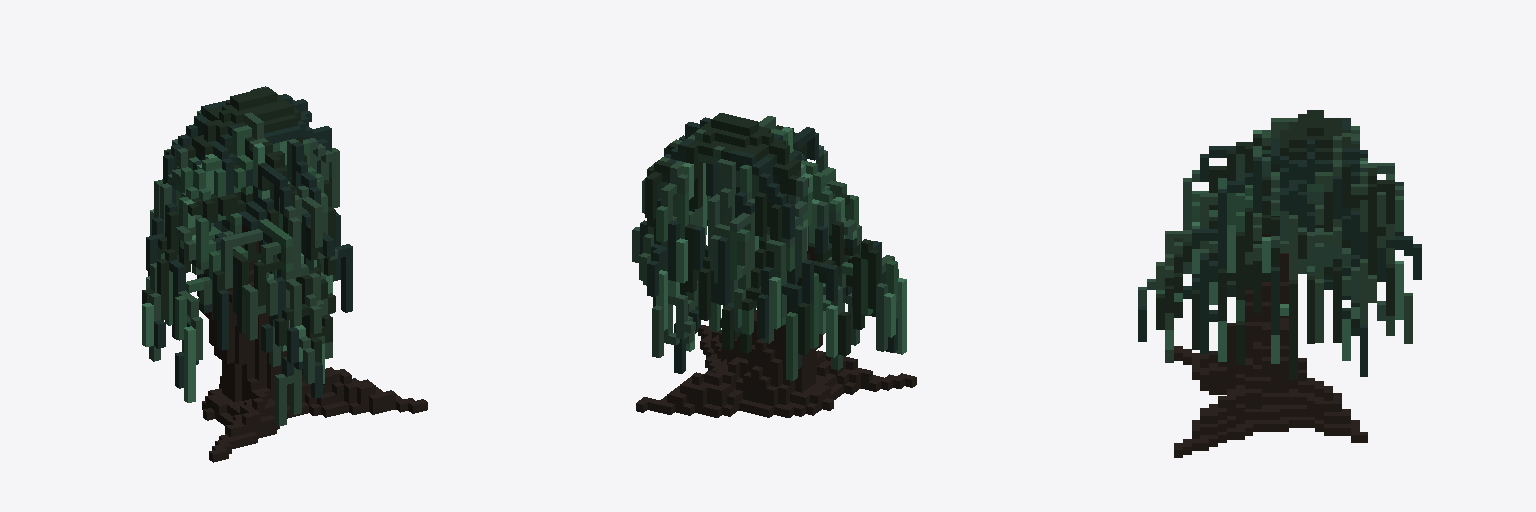
3 renders of one model, left to right at view 1: azimuth 30°, elevation 25°; view 2: azimuth 150°, elevation 25°; view 3: azimuth 270°, elevation 25°, orthographic.
Visible parts, largest first — view 1: object 1; view 2: object 1; view 3: object 1.
Part boxes in pixels (x1,y1,x2,y2): object 1: (142, 86, 427, 462); object 1: (632, 113, 916, 417); object 1: (1138, 110, 1421, 457).
Bounding box in the file's own units: 3.1 × 3.6 × 3.2.
Materials: 1 (1 with a texture image).